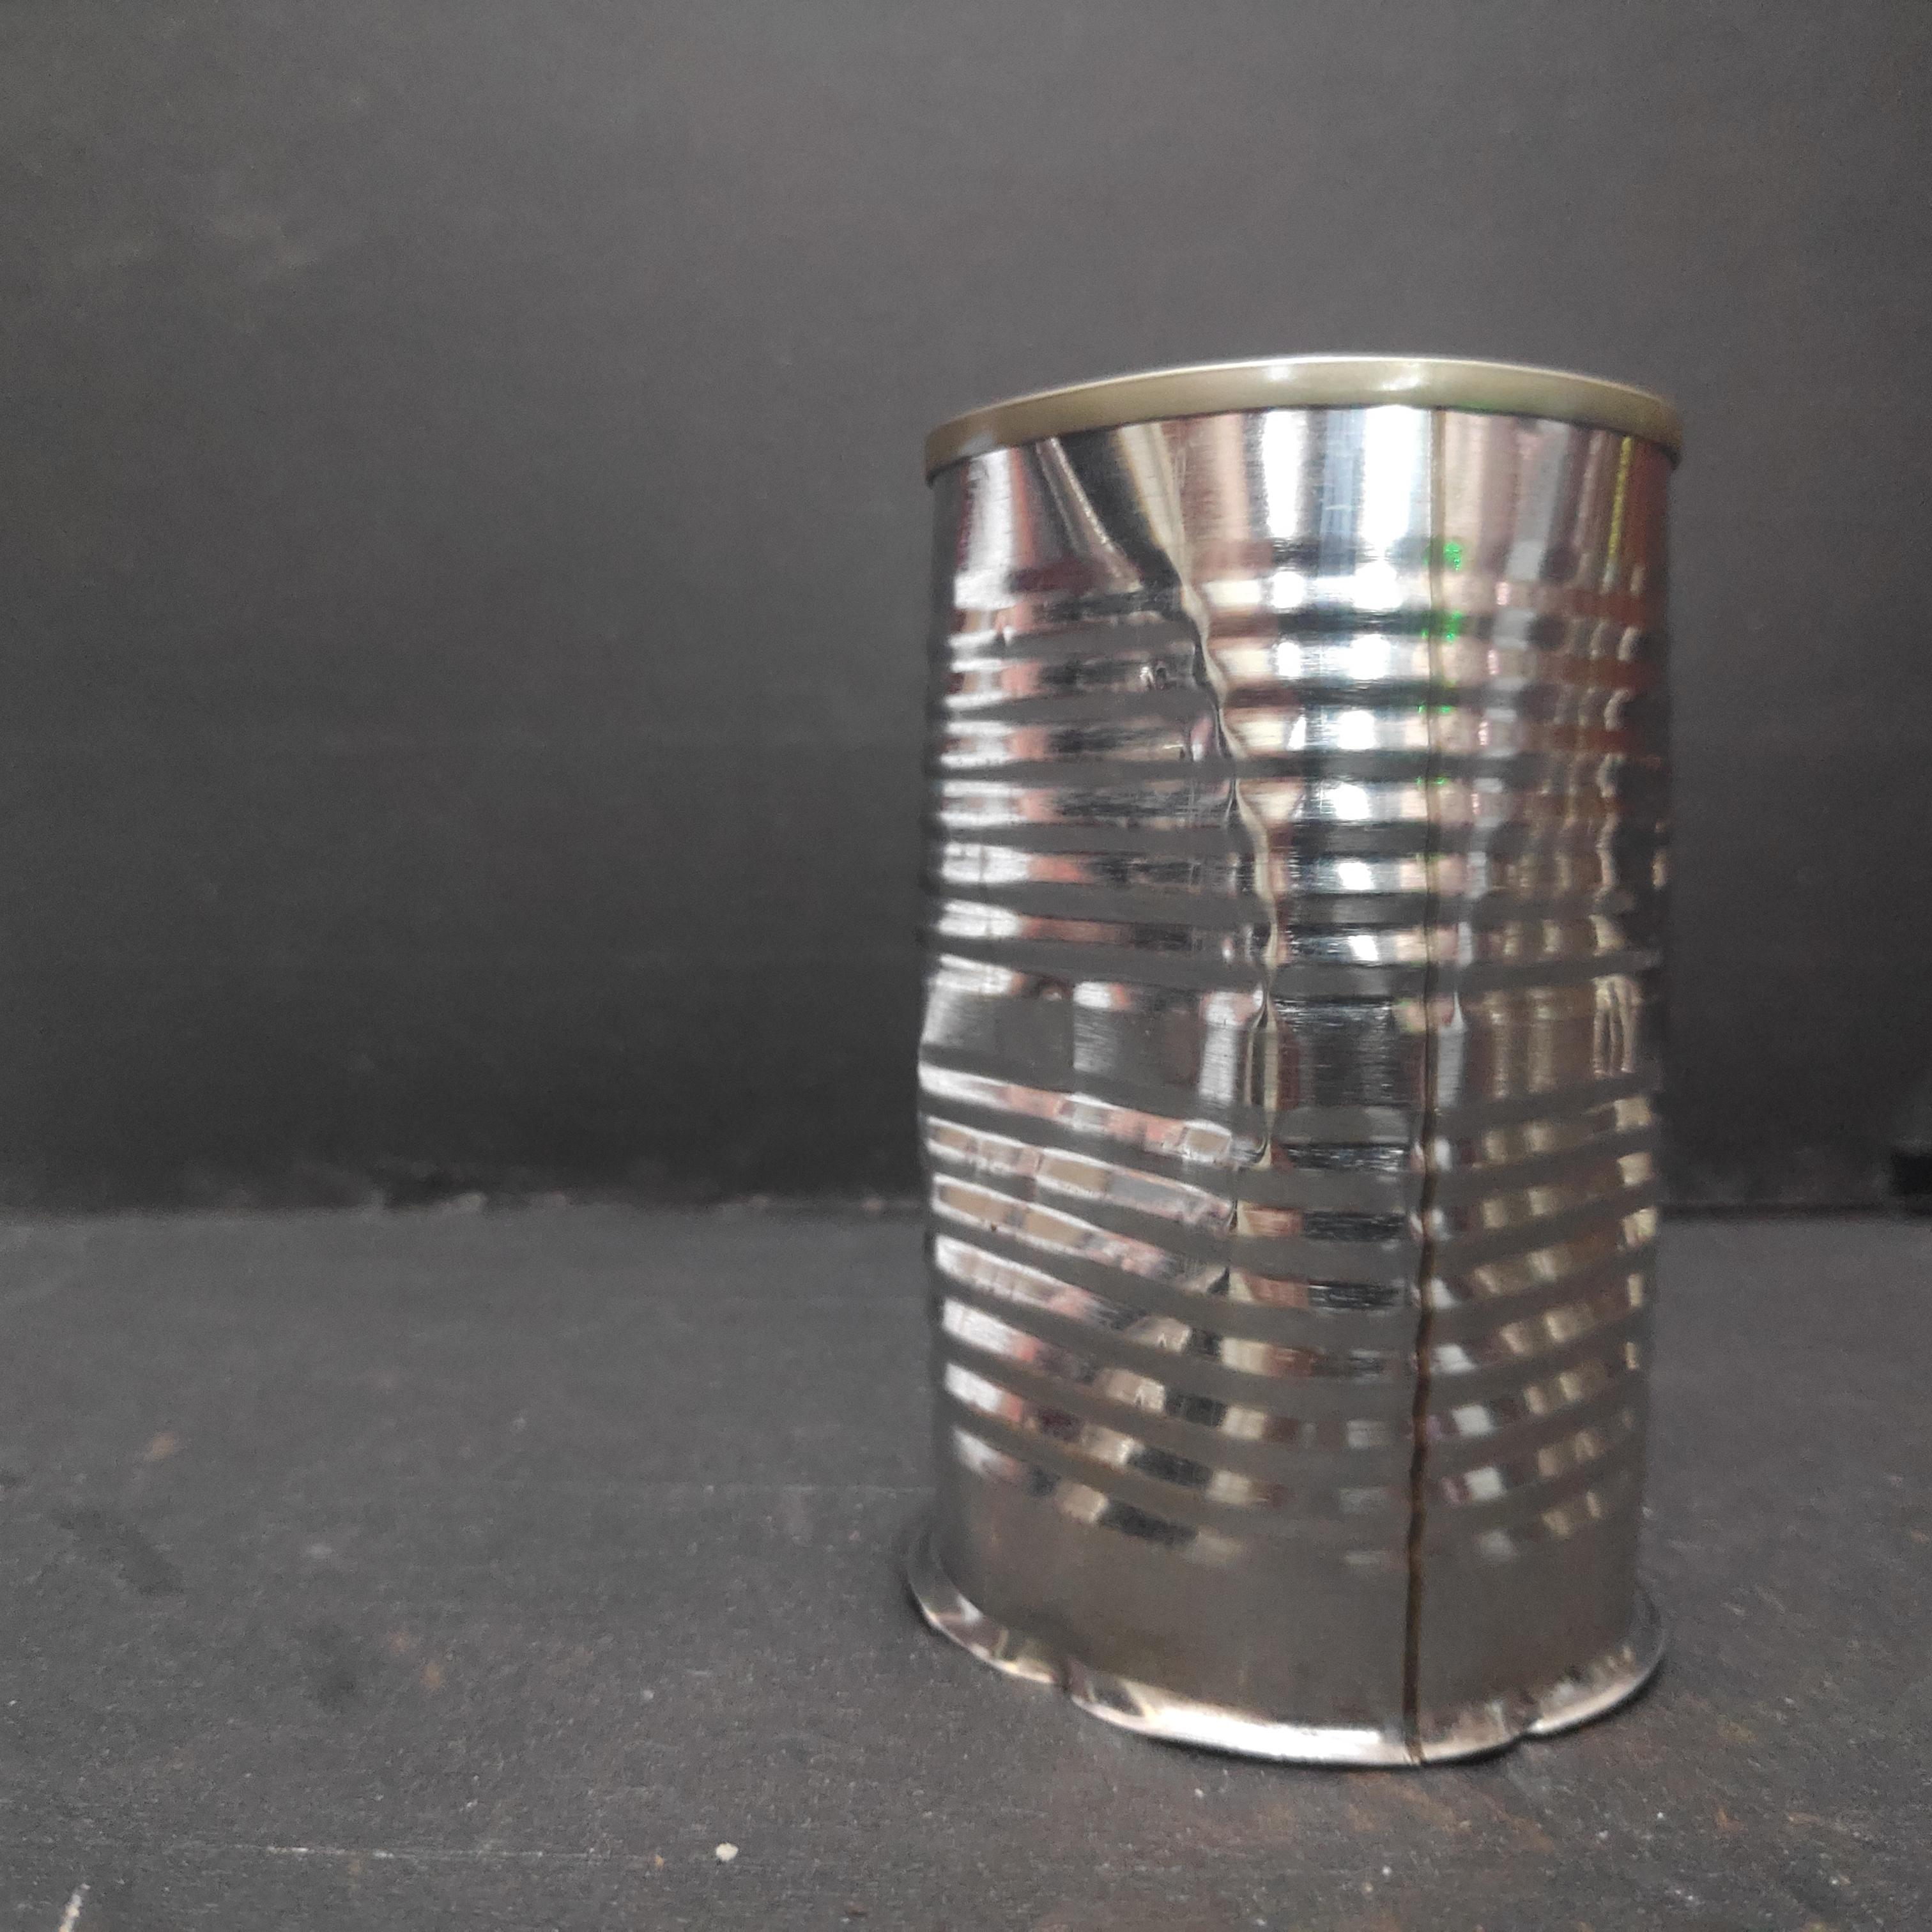Minor Defect: (908, 349, 1706, 1780)
